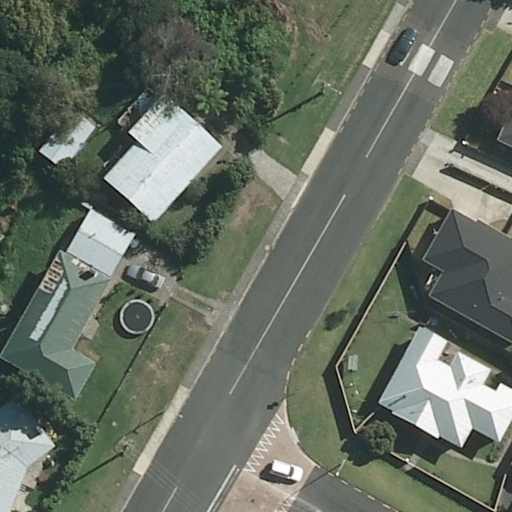DT: (117, 435, 134, 457), (318, 75, 329, 98)
